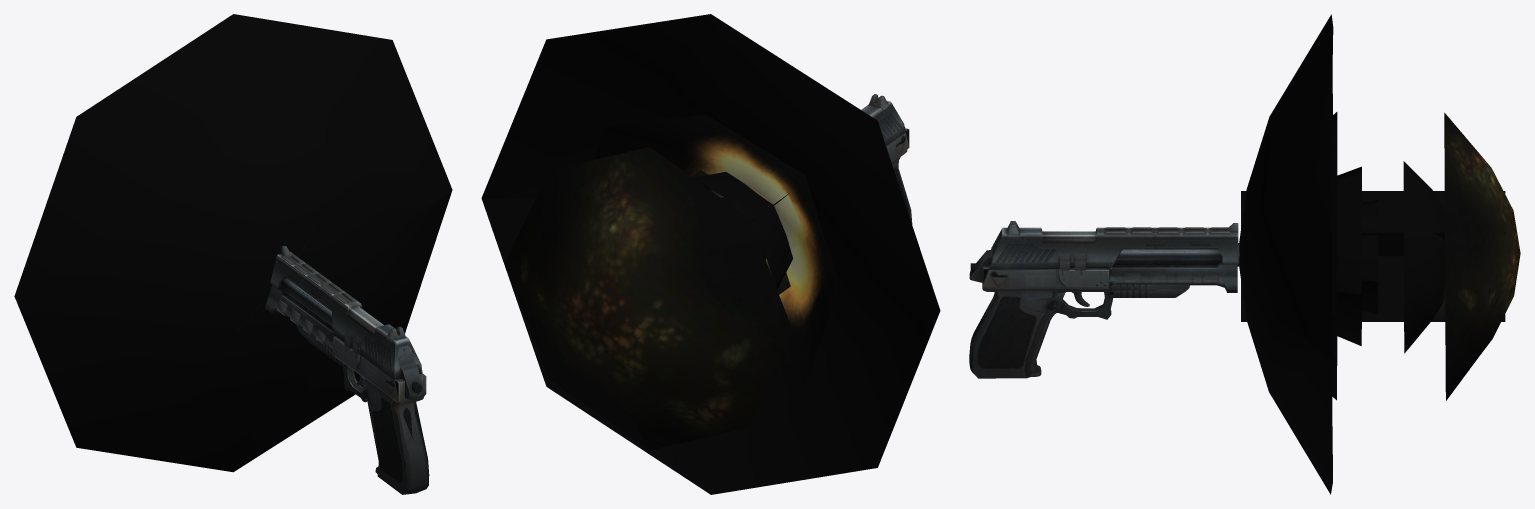
The model's file is TP_Ryder.DAE.
3 renders of one model, left to right at view 1: azimuth 30°, elevation 25°; view 2: azimuth 150°, elevation 25°; view 3: azimuth 270°, elevation 25°, orthographic. The views are drawn at different scales.
Visible parts, largest first — view 1: Ryder_MuzzleFlash4_LOD300, Ryder_LOD200, Ryder_LOD300, Ryder_LOD100; view 2: Ryder_MuzzleFlash4_LOD300, Ryder_MuzzleFlash3_LOD300, Ryder_MuzzleFlash2_LOD300, Ryder_LOD200; view 3: Ryder_MuzzleFlash4_LOD300, Ryder_LOD200, Ryder_LOD100, Ryder_MuzzleFlash3_LOD300, Ryder_LOD300, Ryder_MuzzleFlash2_LOD300, Ryder_MuzzleFlash1_LOD300.
Part boxes in pixels (bbox=[...]): Ryder_MuzzleFlash4_LOD300: bbox=[14, 14, 452, 472]; Ryder_LOD200: bbox=[270, 245, 429, 494]; Ryder_LOD300: bbox=[265, 248, 428, 493]; Ryder_LOD100: bbox=[265, 253, 428, 492]; Ryder_MuzzleFlash4_LOD300: bbox=[481, 14, 940, 494]; Ryder_MuzzleFlash3_LOD300: bbox=[594, 114, 839, 388]; Ryder_MuzzleFlash2_LOD300: bbox=[692, 172, 792, 289]; Ryder_LOD200: bbox=[861, 94, 912, 224]; Ryder_MuzzleFlash4_LOD300: bbox=[1239, 14, 1520, 494]; Ryder_LOD200: bbox=[970, 221, 1239, 378]; Ryder_LOD100: bbox=[972, 221, 1237, 378]; Ryder_MuzzleFlash3_LOD300: bbox=[1241, 112, 1445, 400]; Ryder_LOD300: bbox=[969, 222, 1238, 376]; Ryder_MuzzleFlash2_LOD300: bbox=[1241, 166, 1361, 345]; Ryder_MuzzleFlash1_LOD300: bbox=[1361, 199, 1378, 314].
Size of what is drawn, in the model's own units: 0.5553 by 0.6107 by 0.5555.
